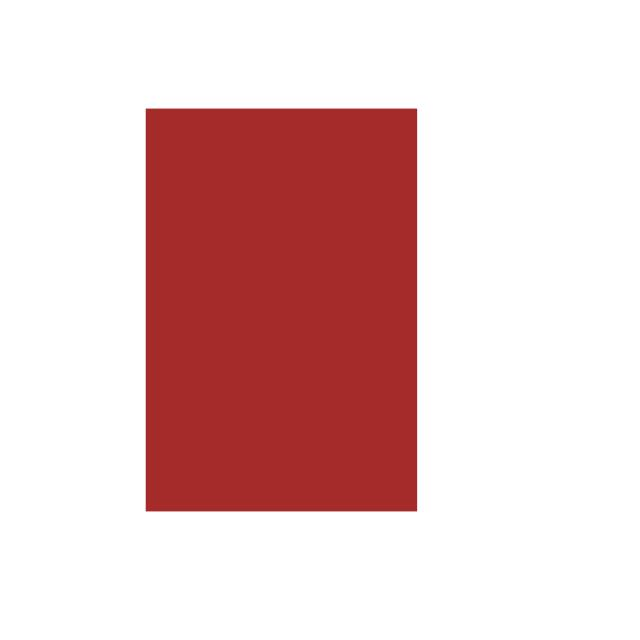Rectangle: (110, 89, 461, 540)
